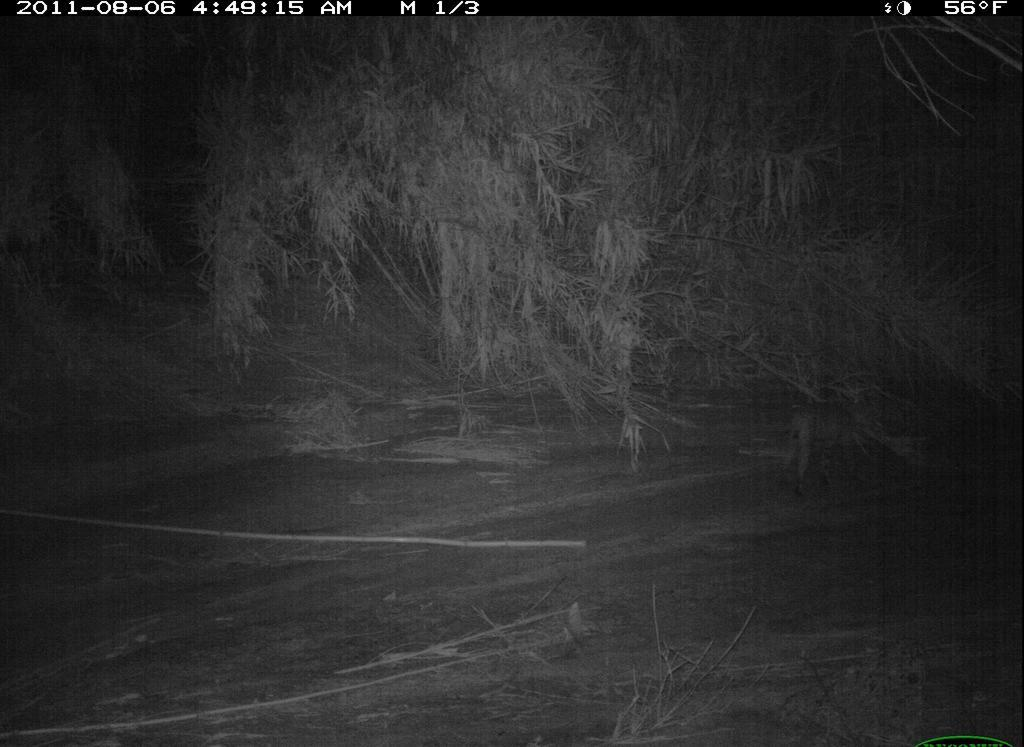bobcat: (778, 386, 910, 503)
